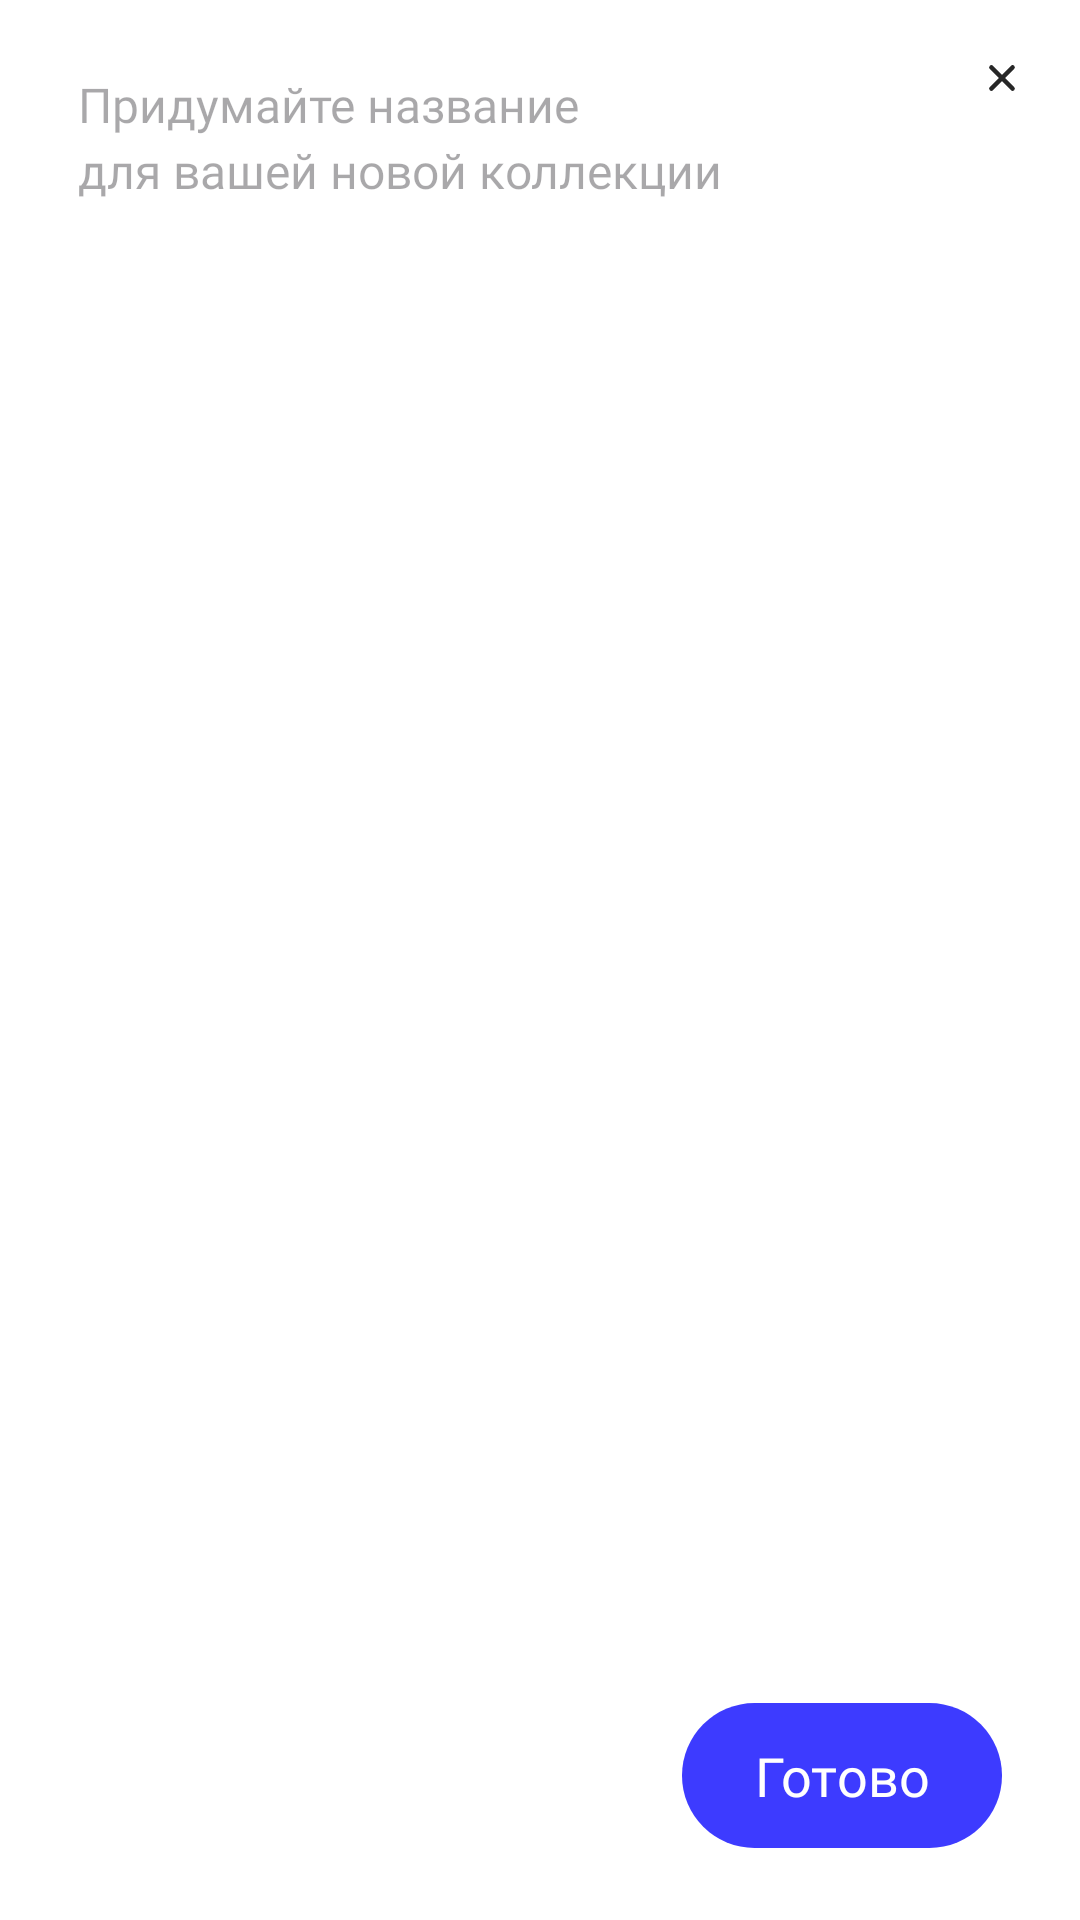

Icon click points for this 1080 × 1920 phone screenshot, format (x=x, y=y):
close: (x=1002, y=78)
